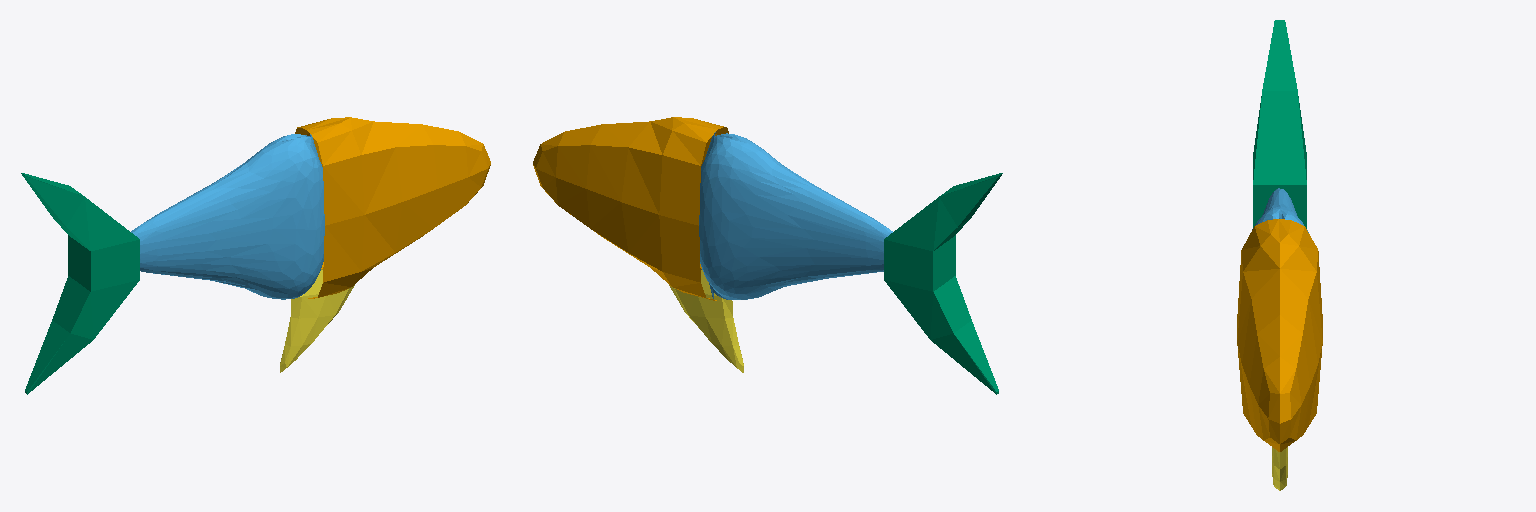
The robot description file, URDF, robot "fish3":
<?xml version="1.0" ?>
<!-- =================================================================================== -->
<!-- |    This document was autogenerated by xacro from Fish2.xacro                    | -->
<!-- |    EDITING THIS FILE BY HAND IS NOT RECOMMENDED                                 | -->
<!-- =================================================================================== -->
<robot name="fish3" xmlns:xacro="http://www.ros.org/wiki/xacro">
  <link name="base_link">
    <visual>
      <origin rpy="0 0 0" xyz="0 0 0"/>
      <geometry>
        <mesh filename="package://uwsim_models/uwsim_fish_urdf/Fish_models/Fish3_1_new.dae"/>
      </geometry>
    </visual>
  </link>

  <link name="body">
    <visual>
      <origin rpy="0 0 0" xyz="0 0 0"/>
      <geometry>
        <mesh filename="package://uwsim_models/uwsim_fish_urdf/Fish_models /Fish3_2_new.dae"/>
      </geometry>
    </visual>
  </link>

  <joint name="Slew" type="continuous">
    <parent link="base_link"/>
    <child link="body"/>
    <axis xyz="0 0 1"/>
    <origin rpy="0 0 0" xyz="-2.3 0 0"/>
    <limit effort="1000.0" lower="-0.5488" upper="0.5488" velocity="1.0"/>
  </joint>

  <link name="tail">
    <visual>
      <origin rpy="0 0 0" xyz="0 0 0"/>
      <geometry>
        <mesh filename="package://uwsim_models/uwsim_fish_urdf/Fish_models /Fish3_tail.dae"/>
      </geometry>
    </visual>
  </link>

  <joint name="Shoulder" type="continuous">
    <parent link="body"/>
    <child link="tail"/>
    <axis xyz="0 0 1"/>
    <origin rpy="0 0 0" xyz="-3 0 0"/>
    <limit effort="1000.0" lower="-0.5488" upper="0.5488" velocity="1.0"/>
  </joint>


  <link name="fin">
    <visual>
      <origin rpy="0 0 0" xyz="0 0 0"/>
      <geometry>
        <mesh filename="package://uwsim_models/uwsim_fish_urdf/Fish_models /Fish3_fin.dae"/>
      </geometry>
    </visual>
  </link>

  <joint name="Elbow" type="continuous">
    <parent link="body"/>
    <child link="fin"/>
    <axis xyz="1 0 0"/>
    <origin rpy="0 0 0" xyz="0 0 -1"/>
    <limit effort="1000.0" lower="0" upper="0.5" velocity="1.0"/>
  </joint>
</robot>

--- What the picture shows (computed from the rendered views, not written in the file) ---
Views: 3 orthographic renders of the robot side by side, from view 1: azimuth 30°, elevation 25°; view 2: azimuth 150°, elevation 25°; view 3: azimuth 270°, elevation 25°.
Model fish3 with 4 links and 3 joints (3 continuous), rooted at base_link, posed every joint at zero.
Links seen in each view (by area): view 1: body, base_link, tail, fin; view 2: body, base_link, tail, fin; view 3: base_link, tail, body, fin.
Boxes of the visible links, bbox=[...] form: body: bbox=[131, 134, 324, 299]; base_link: bbox=[295, 117, 490, 298]; tail: bbox=[21, 173, 139, 394]; fin: bbox=[280, 269, 354, 372]; body: bbox=[699, 132, 892, 299]; base_link: bbox=[533, 117, 728, 300]; tail: bbox=[884, 173, 1002, 394]; fin: bbox=[669, 269, 743, 372]; base_link: bbox=[1237, 219, 1322, 451]; tail: bbox=[1253, 20, 1306, 228]; body: bbox=[1252, 188, 1308, 232]; fin: bbox=[1272, 447, 1287, 490].
Size in the robot's own frame: 6.86 by 0.8957 by 3.67 metres.
4 mesh visuals loaded from 4 distinct referenced files (4 Collada DAE).